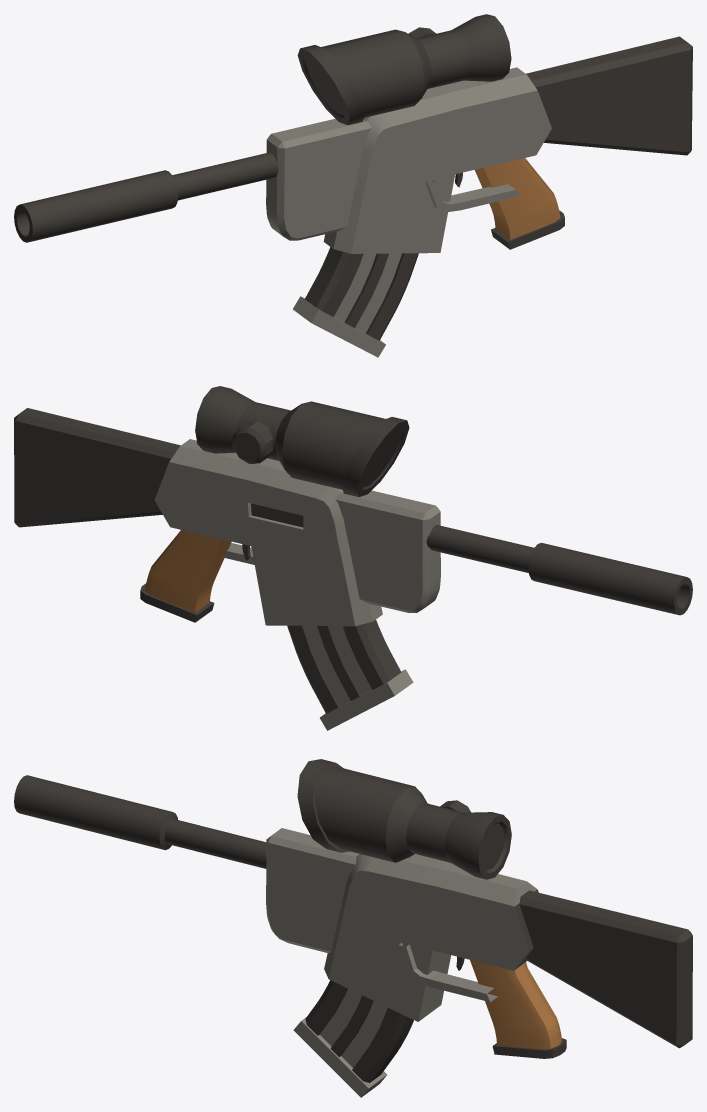
The model's file is cc0-sniper-lod0.glb.
The picture shows the model from 3 angles, top to bottom: view 1: azimuth 30°, elevation 25°; view 2: azimuth 150°, elevation 25°; view 3: azimuth 330°, elevation 25°; orthographic projection.
Parts seen in each view (by area): view 1: part_0; view 2: part_0; view 3: part_0.
Boxes of the visible parts, x1,y1,x2,y2 form: part_0: [14, 14, 692, 357]; part_0: [14, 386, 692, 730]; part_0: [14, 759, 692, 1097].
Size of the model in its own units: 1.74 by 0.7852 by 0.194.
